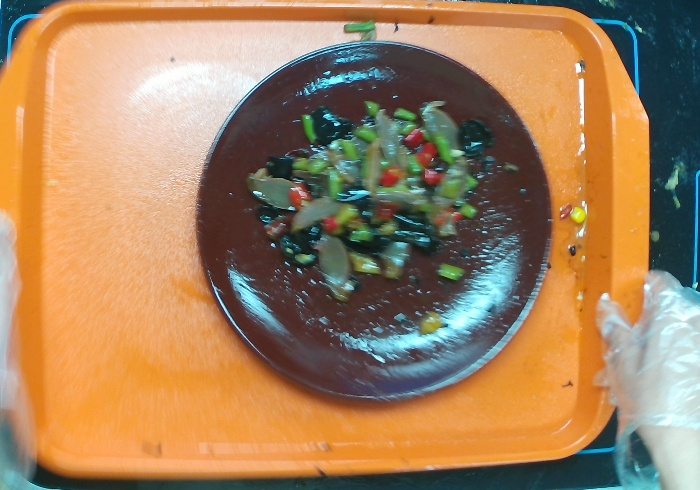HZYJPL-Ka_Fei_Yuan_Pan: (193, 38, 550, 404)
